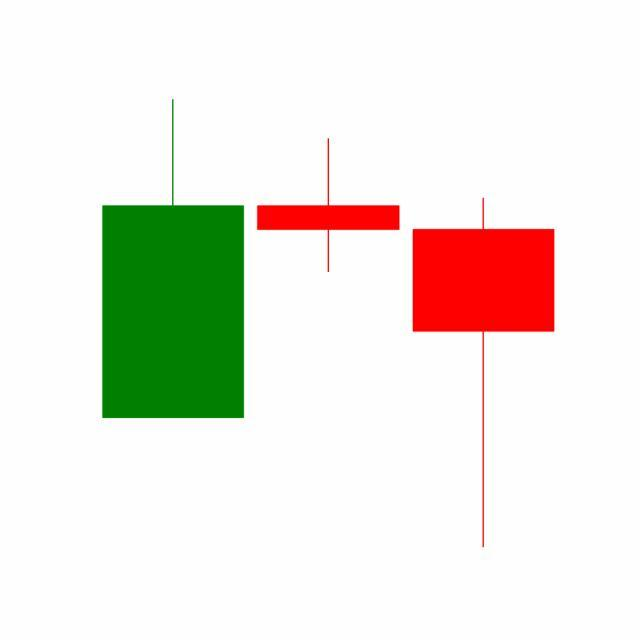Spinning Top: (250, 137, 407, 274)
